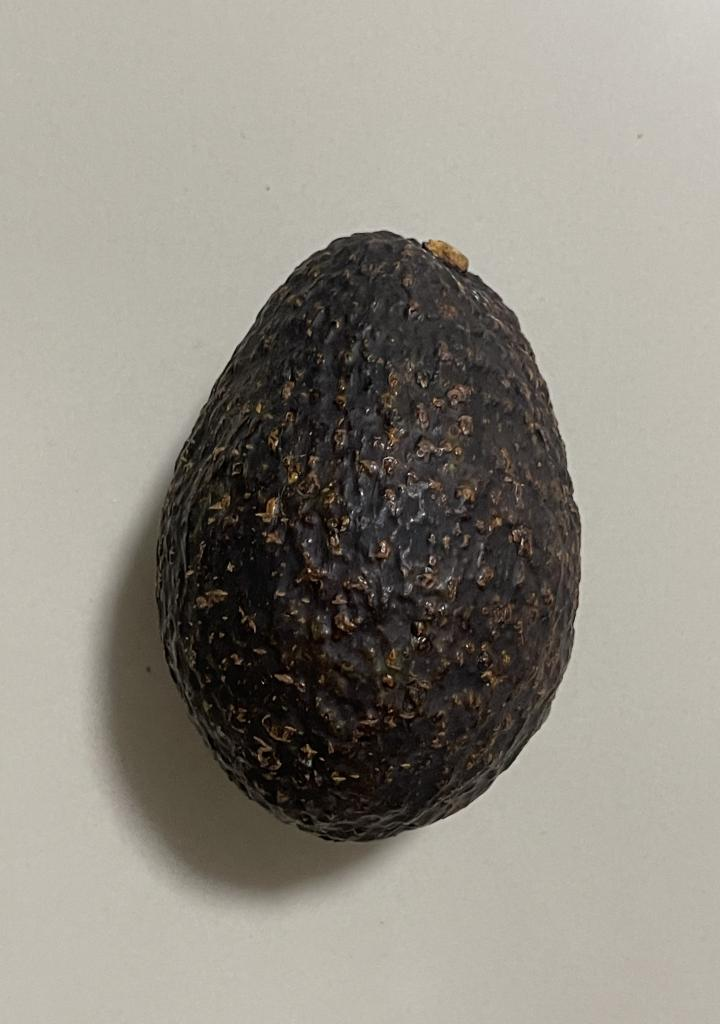Level3: (145, 216, 594, 854)
